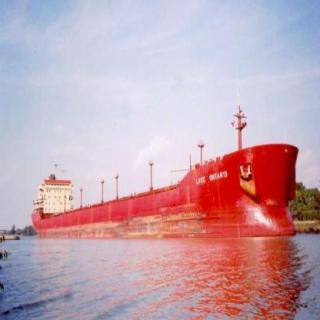Bulk Carrier: (36, 137, 305, 233)
